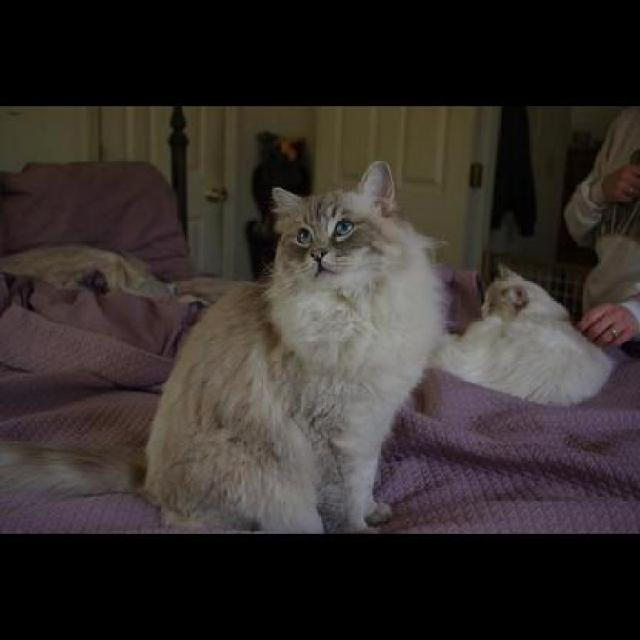unauthorized: (0, 157, 449, 534), (427, 260, 616, 408)
